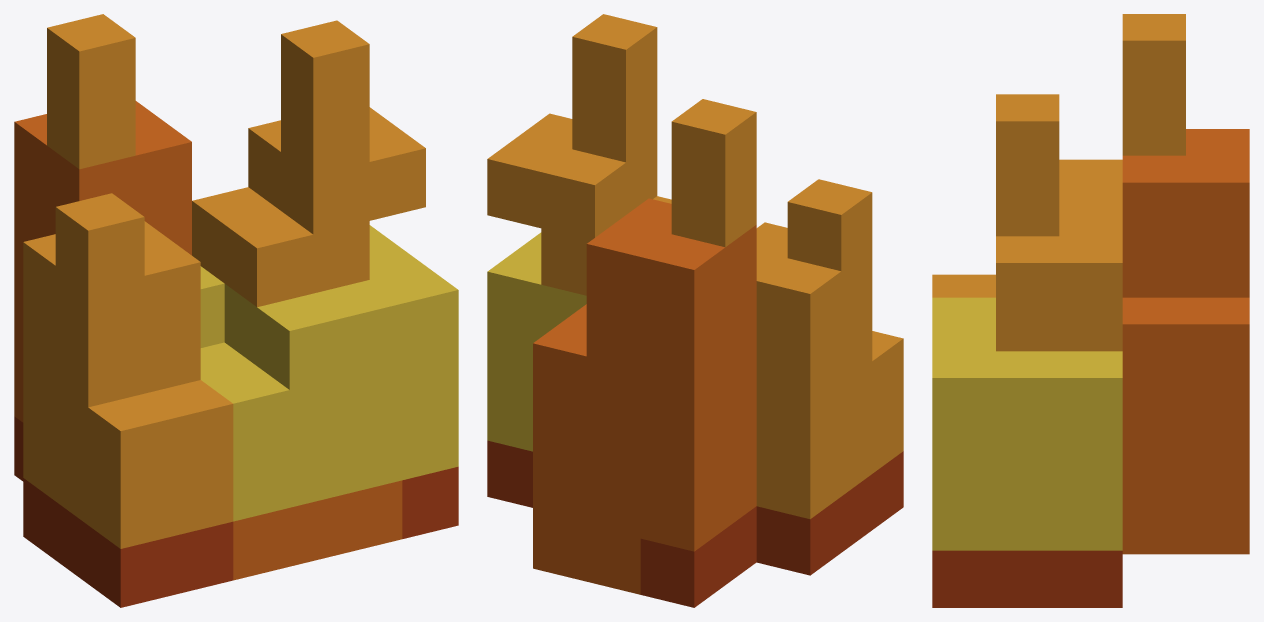
File: flame_06.glb
3 renders of one model, left to right at view 1: azimuth 30°, elevation 25°; view 2: azimuth 150°, elevation 25°; view 3: azimuth 270°, elevation 25°, orthographic. The views are drawn at different scales.
Visible parts, largest first — view 1: flame_06; view 2: flame_06; view 3: flame_06.
Boxes of the visible parts, x1,y1,x2,y2 form: flame_06: (14, 14, 458, 607); flame_06: (487, 14, 903, 607); flame_06: (932, 14, 1249, 607).
Bounding box in the file's own units: 0.75 × 1 × 0.625.
